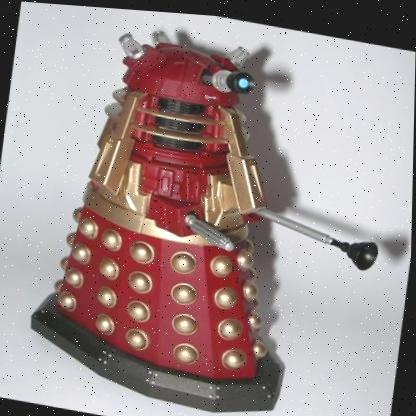dalek: (2, 1, 410, 416)
